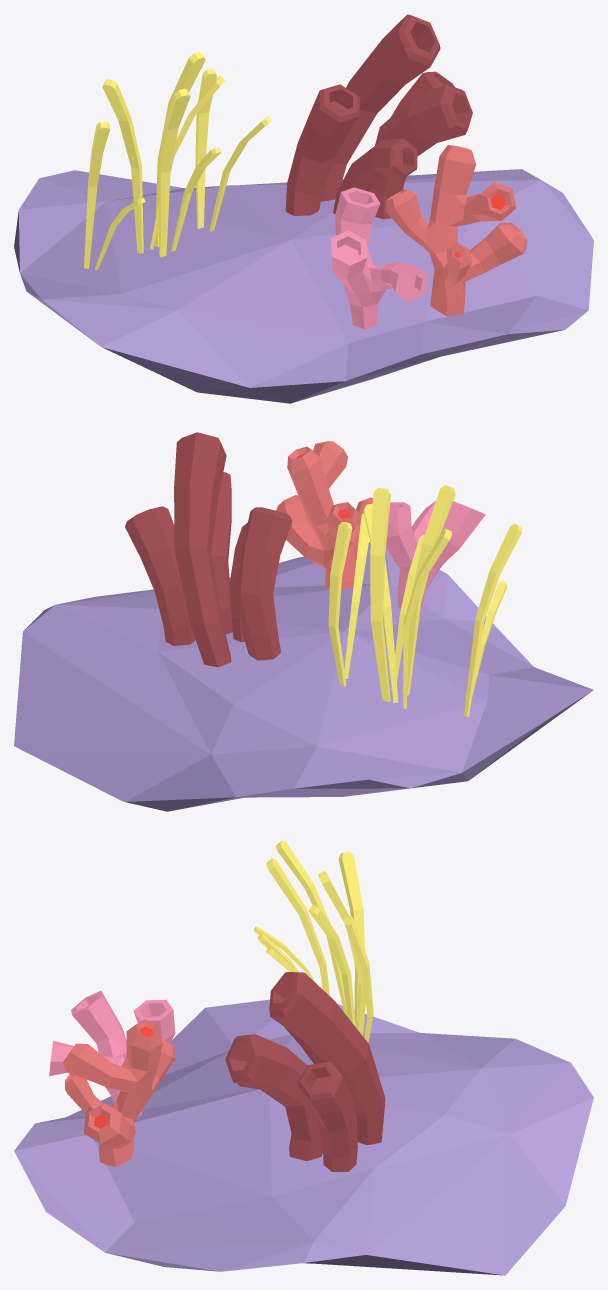
Rendered from Coralls_002.glb.
3 views of the same model, one above another, from view 1: azimuth 30°, elevation 25°; view 2: azimuth 150°, elevation 25°; view 3: azimuth 270°, elevation 25° (orthographic). The views are drawn at different scales.
Visible parts, largest first — view 1: Coralls_002; view 2: Coralls_002; view 3: Coralls_002.
Boxes of the visible parts, x1,y1,x2,y2 form: Coralls_002: [14, 14, 593, 403]; Coralls_002: [14, 432, 593, 811]; Coralls_002: [14, 840, 593, 1275].
Bounding box in the file's own units: 1.97 × 1.17 × 1.93.
Materials: 2 (2 with a texture image).
